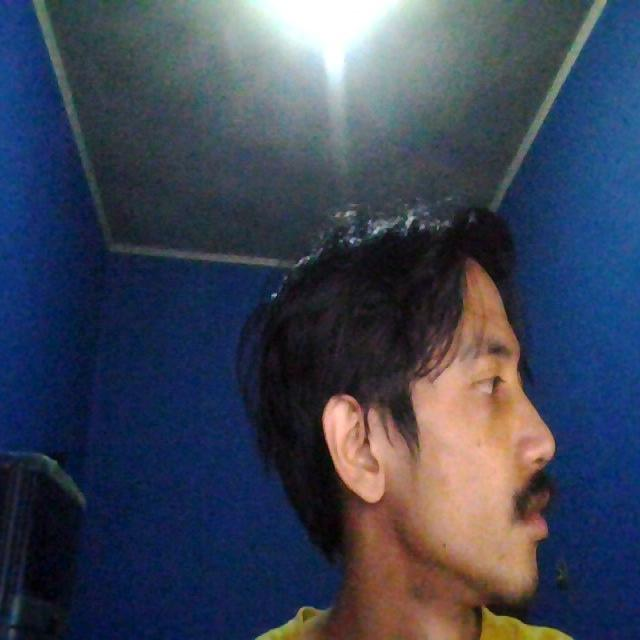melihat kekiri: (228, 213, 578, 602)
